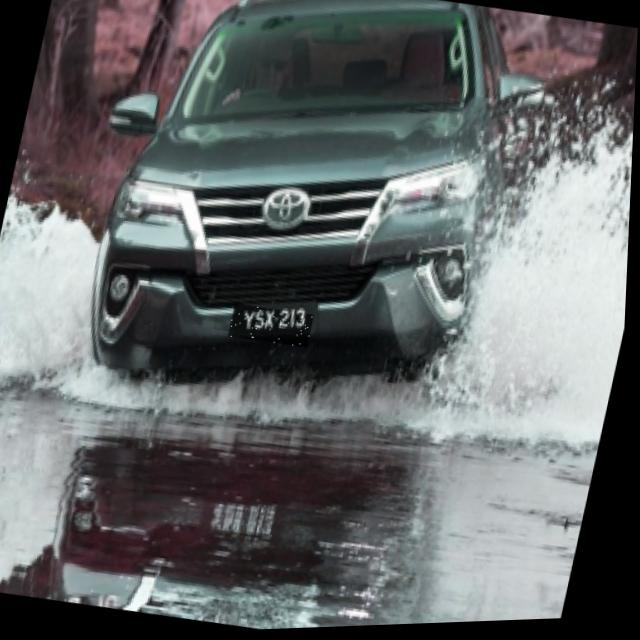license_plate: (230, 302, 317, 352)
